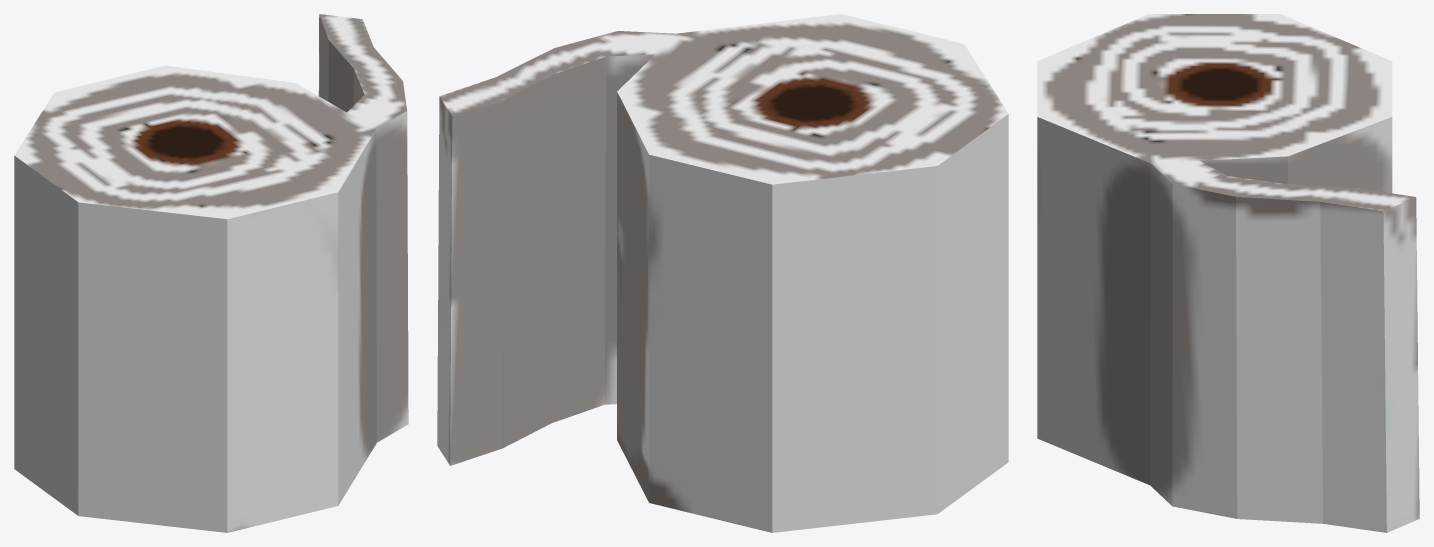
Rendered from toilet_paper.obj.
The picture shows the model from 3 angles, left to right: view 1: azimuth 30°, elevation 25°; view 2: azimuth 150°, elevation 25°; view 3: azimuth 270°, elevation 25°; orthographic projection. The views are drawn at different scales.
Visible parts, largest first — view 1: Cube; view 2: Cube; view 3: Cube.
Part boxes in pixels (x1,y1,x2,y2): Cube: [14, 14, 408, 532]; Cube: [437, 14, 1008, 532]; Cube: [1037, 14, 1419, 532].
Bounding box in the file's own units: 2.66 × 2.02 × 2.15.
